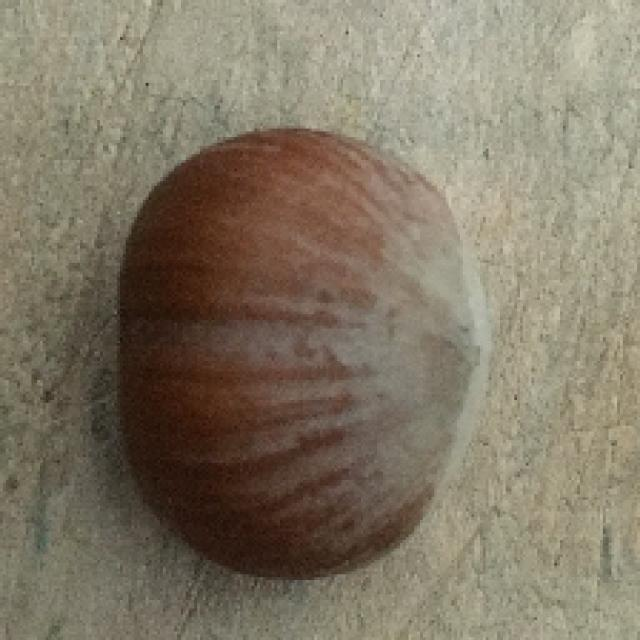qualityHazelnut: (120, 126, 488, 581)
